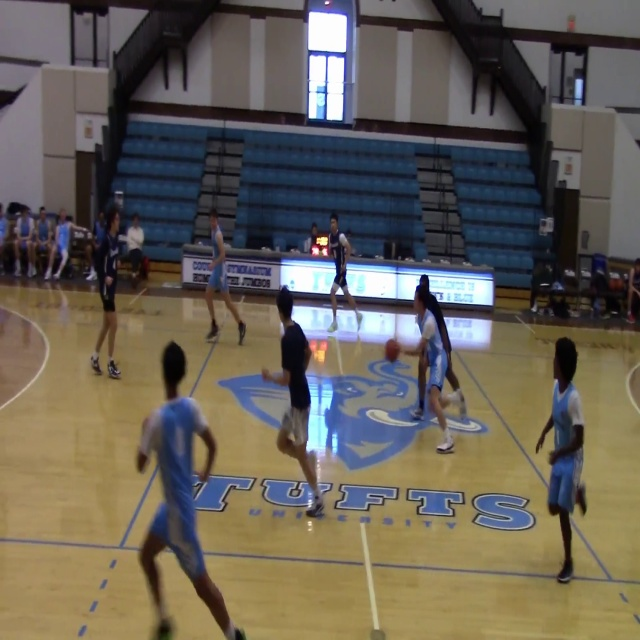Basketball: (385, 339, 400, 362)
